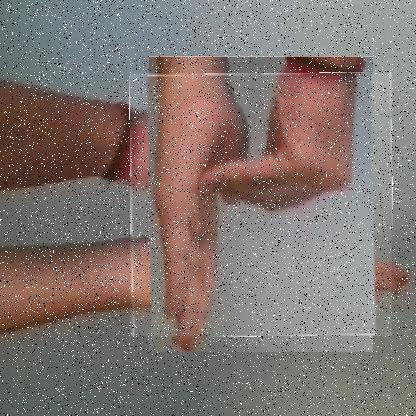Z: (130, 73, 393, 337)
